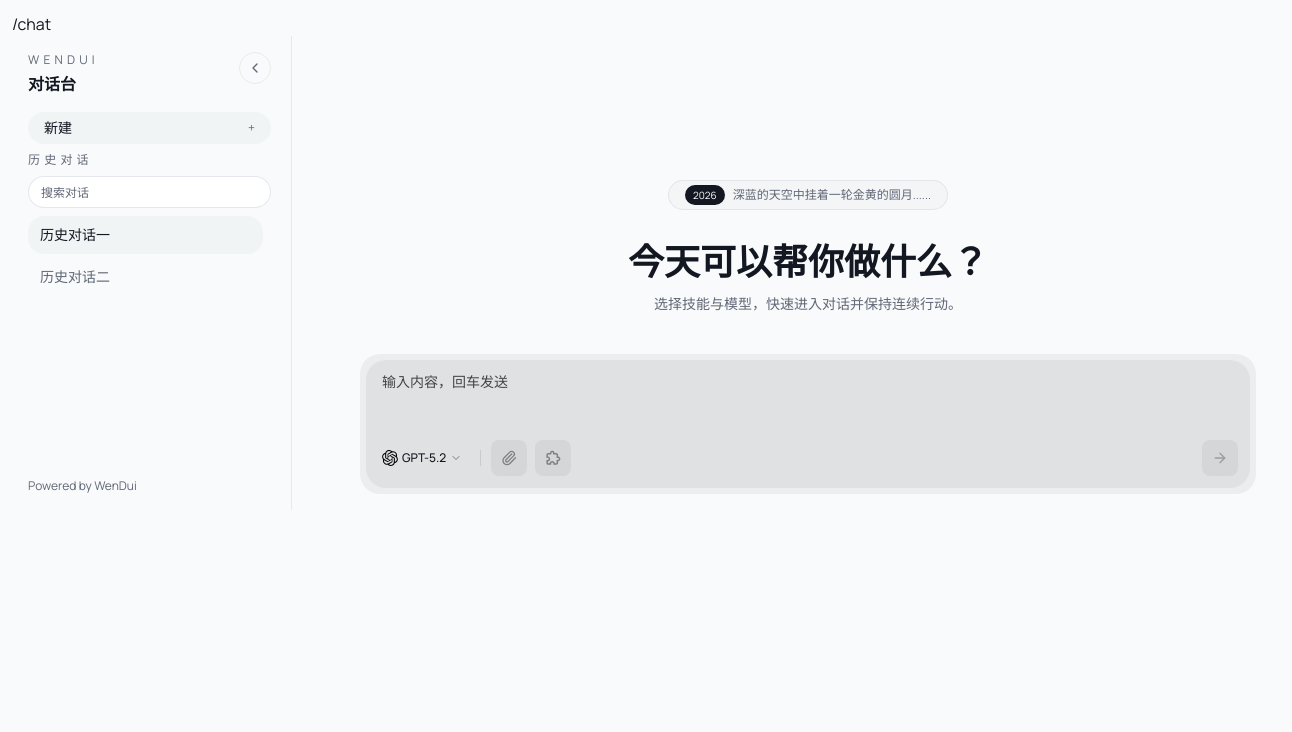
it: navigates to the session route and shows messages when selecting history
This screenshot has width=1292, height=732.
Click the button "历史对话二": (96, 277) [40, 267, 153, 287]
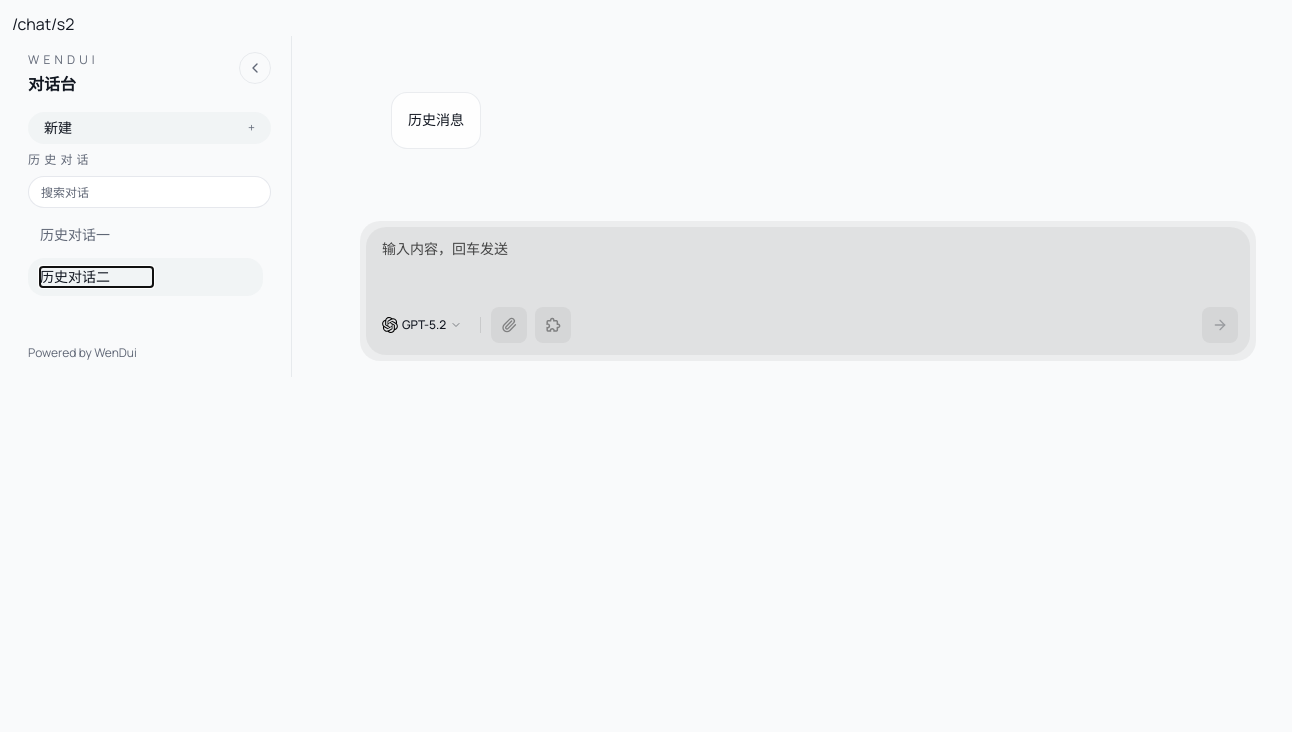
Now the text with test id "location-display" reads "/chat/s2", box [12, 13, 74, 35]
Now the text "历史消息" is shown, box [408, 109, 464, 132]
